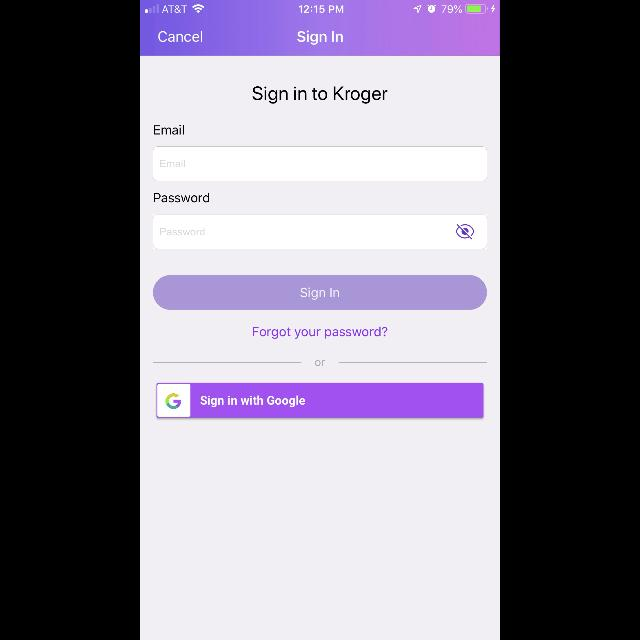icon: (456, 224, 474, 240)
input: (154, 214, 486, 250), (154, 146, 486, 182)
text: (252, 86, 388, 104), (252, 327, 388, 339), (297, 31, 343, 45), (154, 193, 210, 203), (159, 32, 203, 42), (161, 228, 205, 236), (154, 125, 184, 135), (160, 160, 186, 168), (315, 360, 325, 366)
textbutton: (157, 382, 483, 418), (154, 276, 486, 310)
uppertaskbar: (140, 0, 500, 14)
